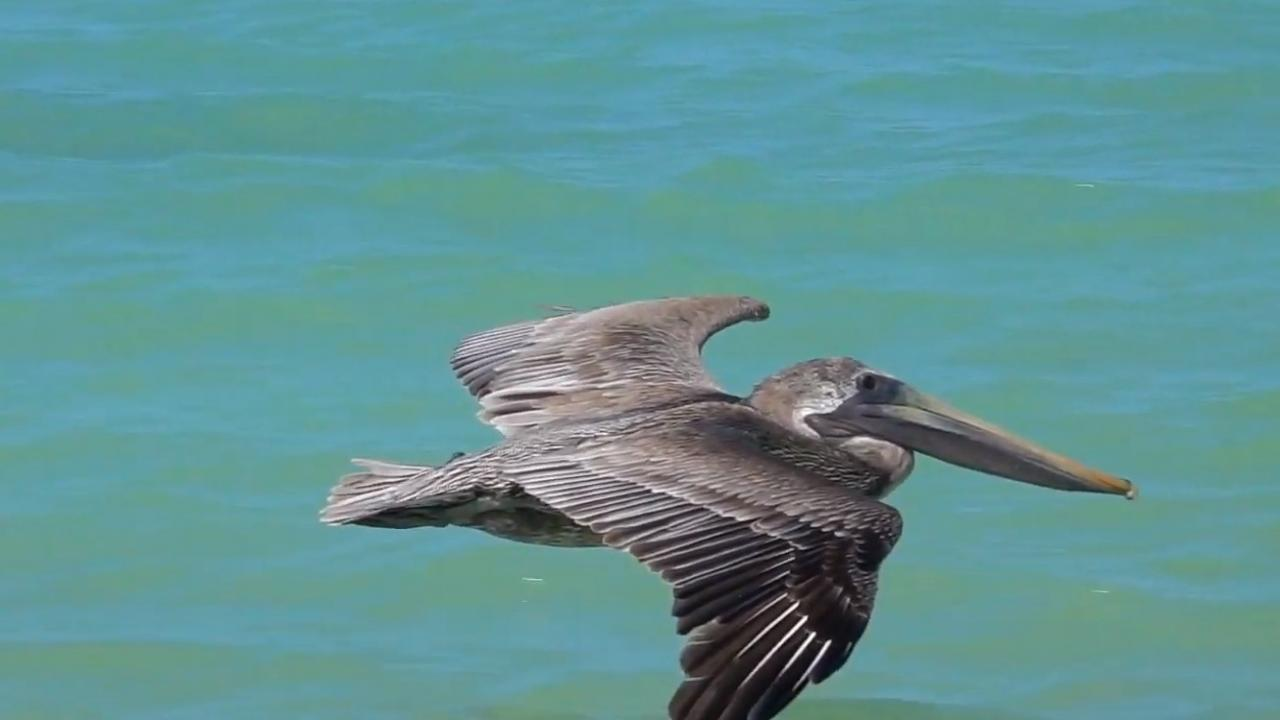Bird: (307, 290, 1147, 720)
